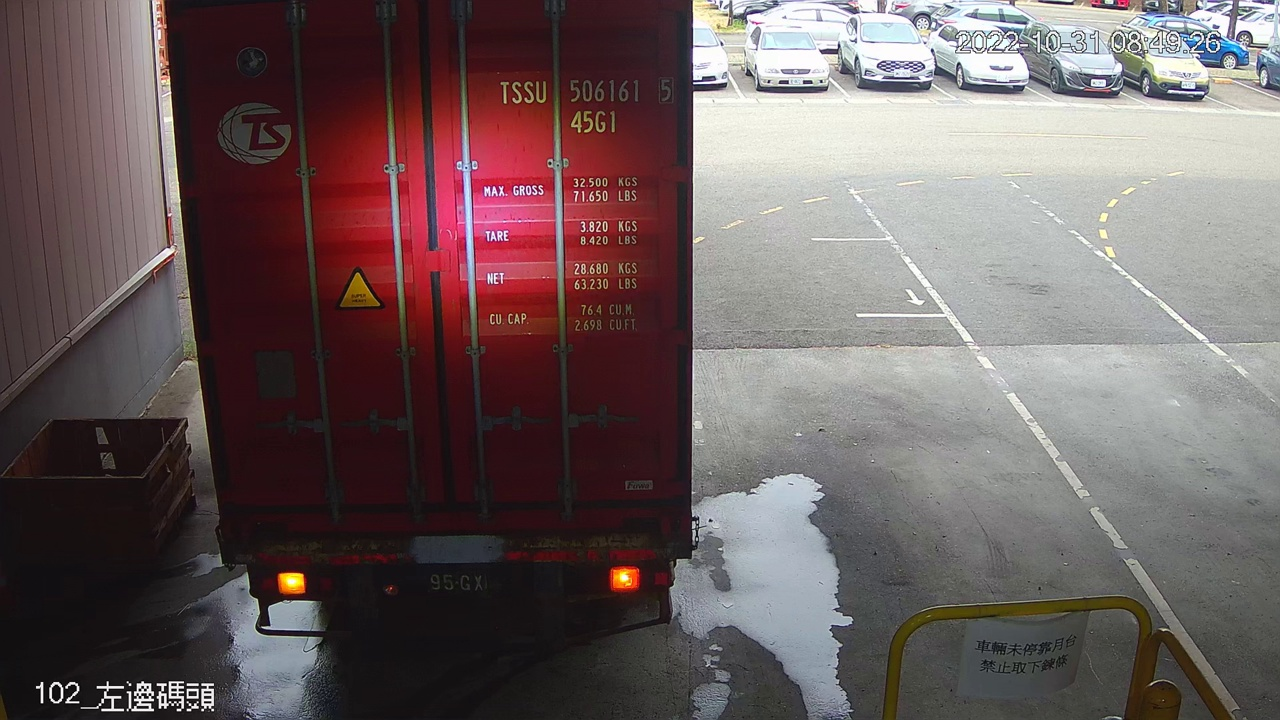container: (490, 70, 680, 140)
